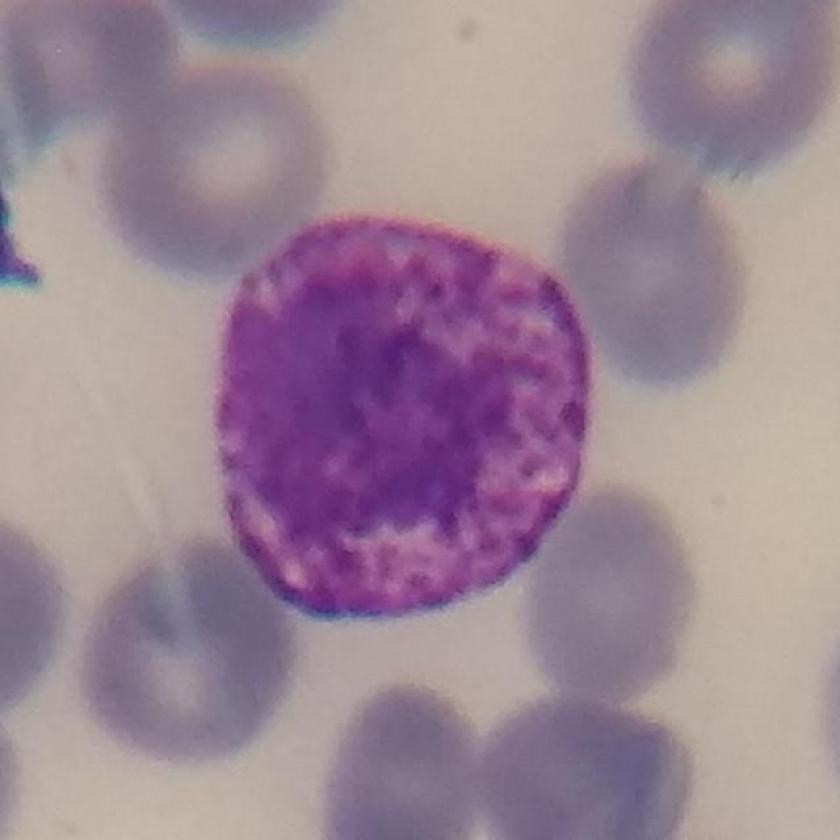basophil: (219, 202, 598, 631)
